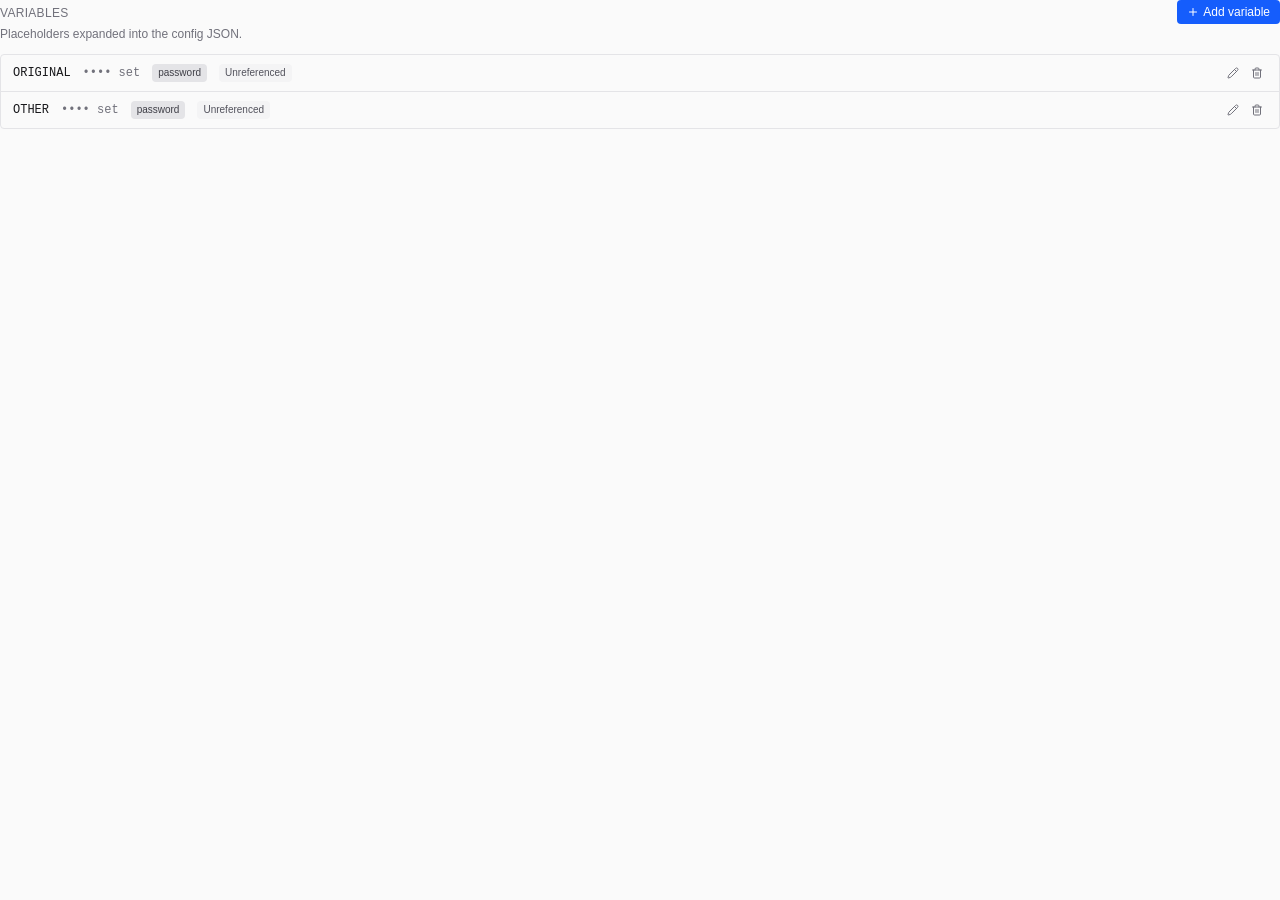
Test: TemplateVarsManager (buffered mode) › Edit modal blocks rename to a name that already exists
This screenshot has width=1280, height=900.
Click the button titled "Replace value" in the row of "ORIGINAL" at (1233, 73), box [1223, 63, 1243, 83]
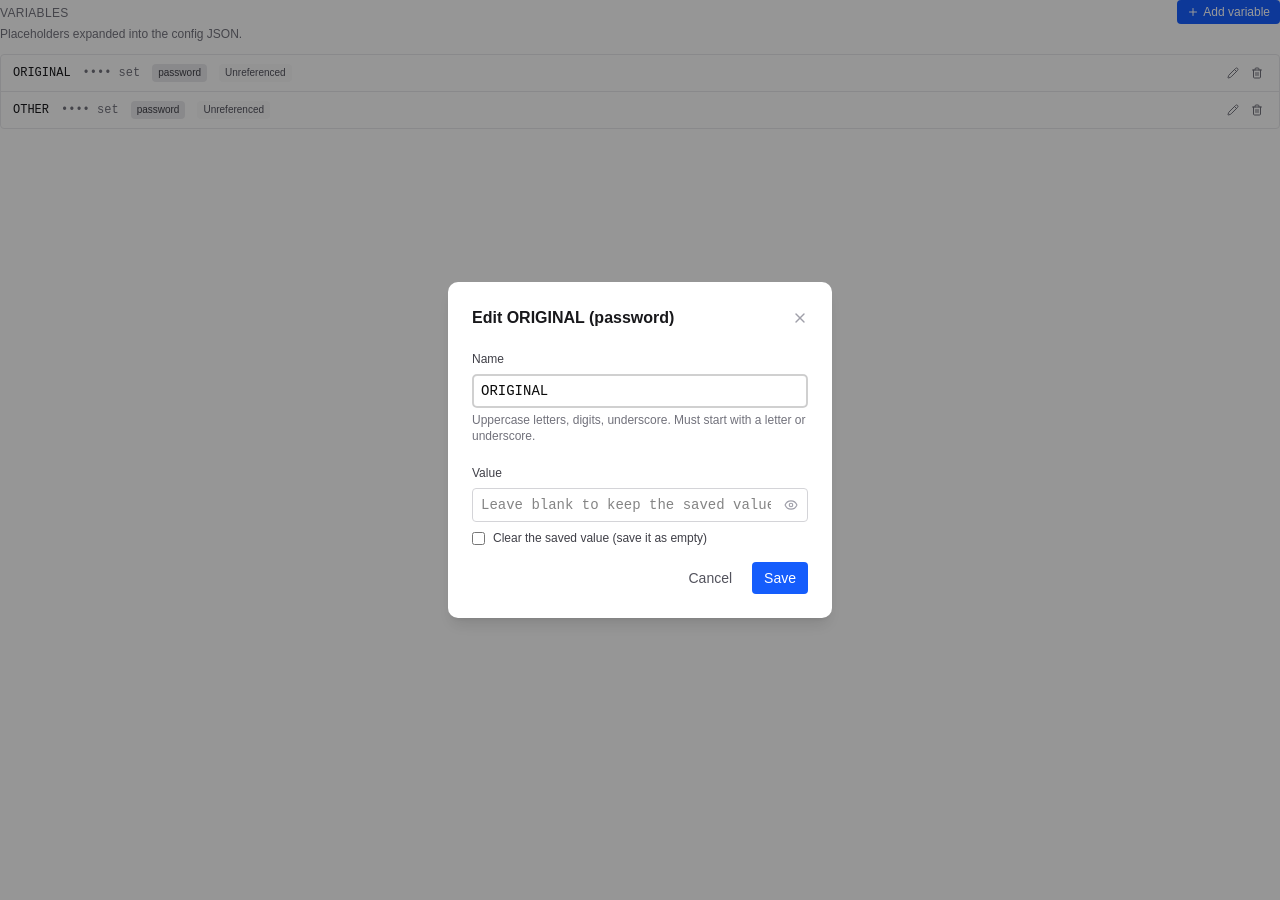
Replace the text in the field labelled "Name" with "OTHER" at (640, 391), box [472, 374, 808, 408]
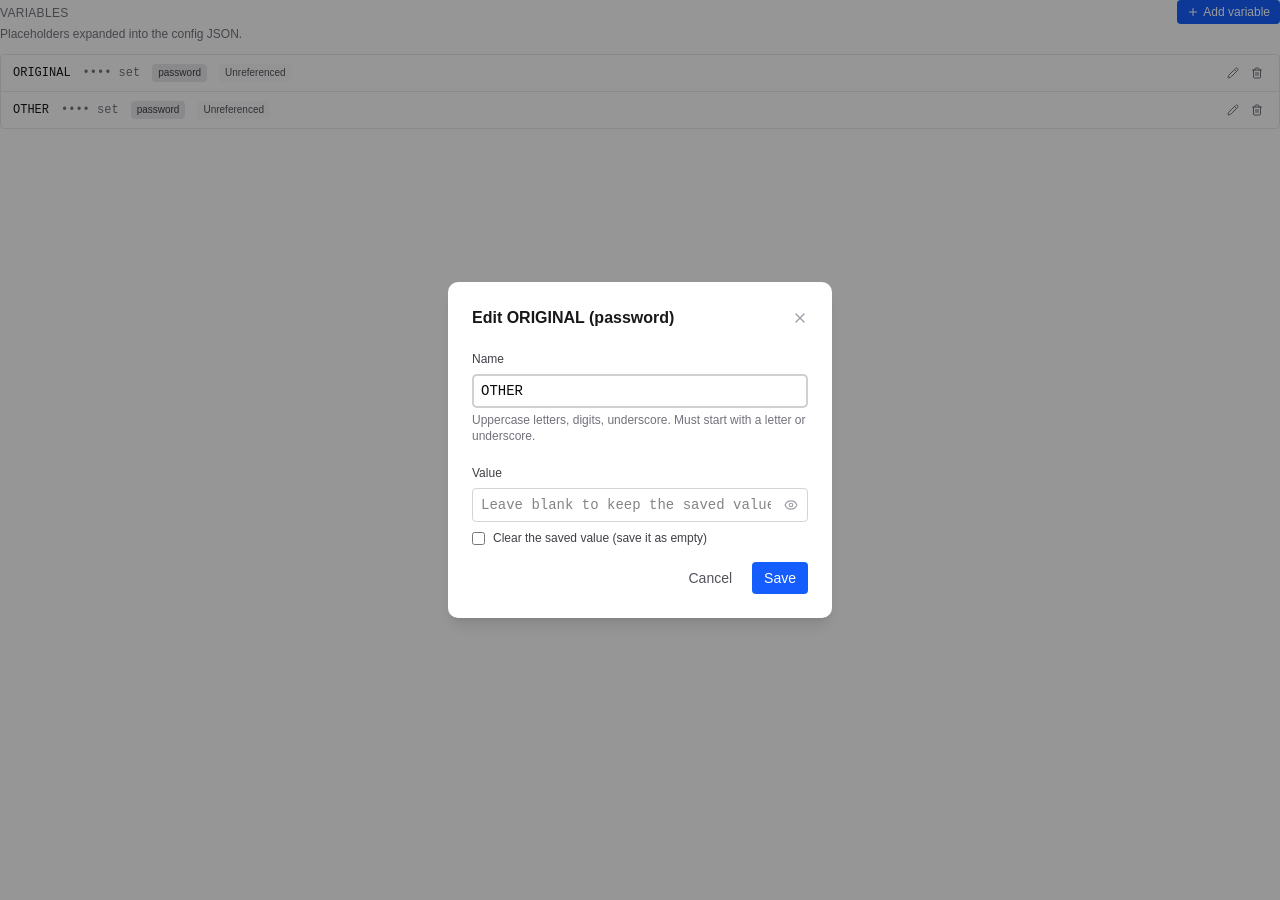
Click the button "Save" at (780, 578), box [752, 562, 808, 594]
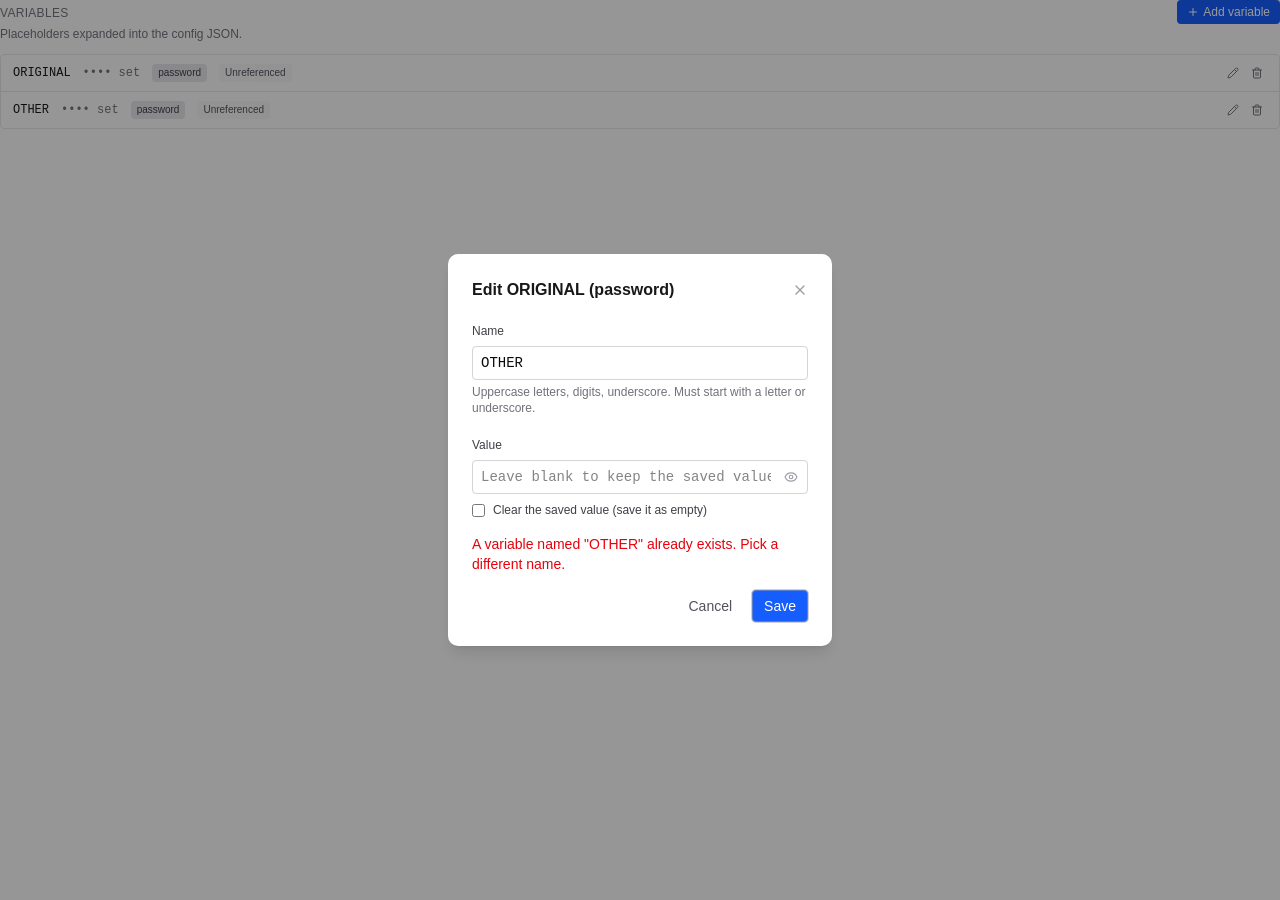
Expected: the text "already exists" is shown, [472, 536, 778, 572]
